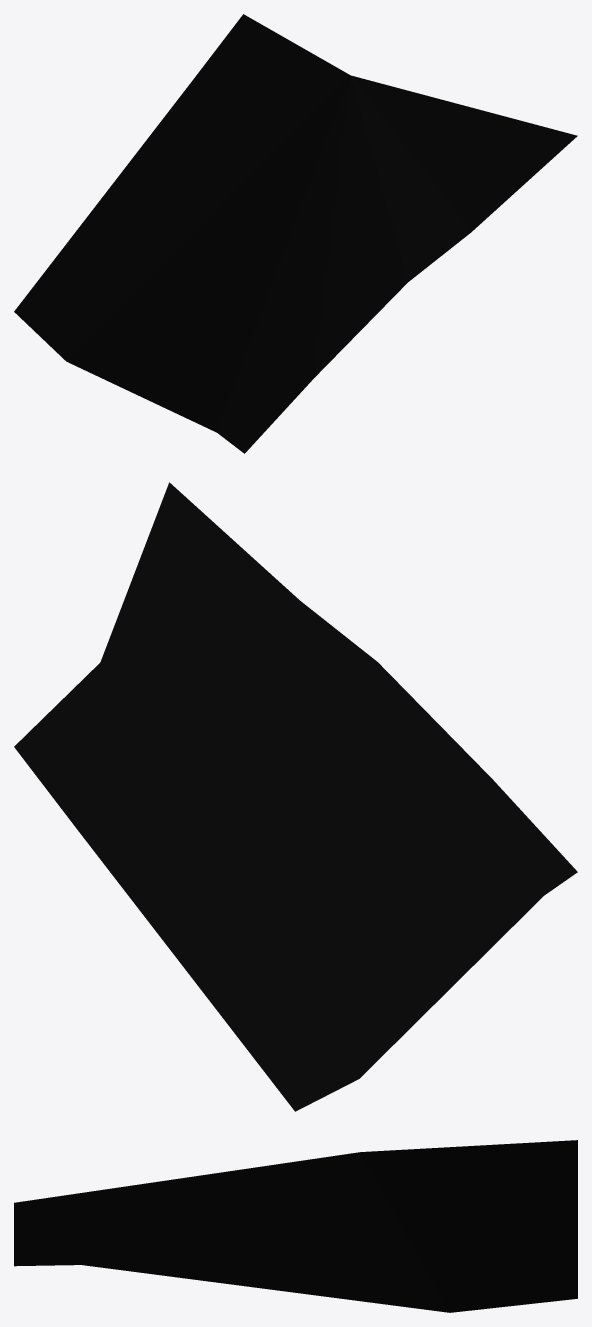
3 renders of one model, top to bottom at view 1: azimuth 30°, elevation 25°; view 2: azimuth 150°, elevation 25°; view 3: azimuth 270°, elevation 25°, orthographic. The views are drawn at different scales.
Bounding box in the file's own units: 4.92 × 3.88 × 5.9.
3 materials, 3 textured.
